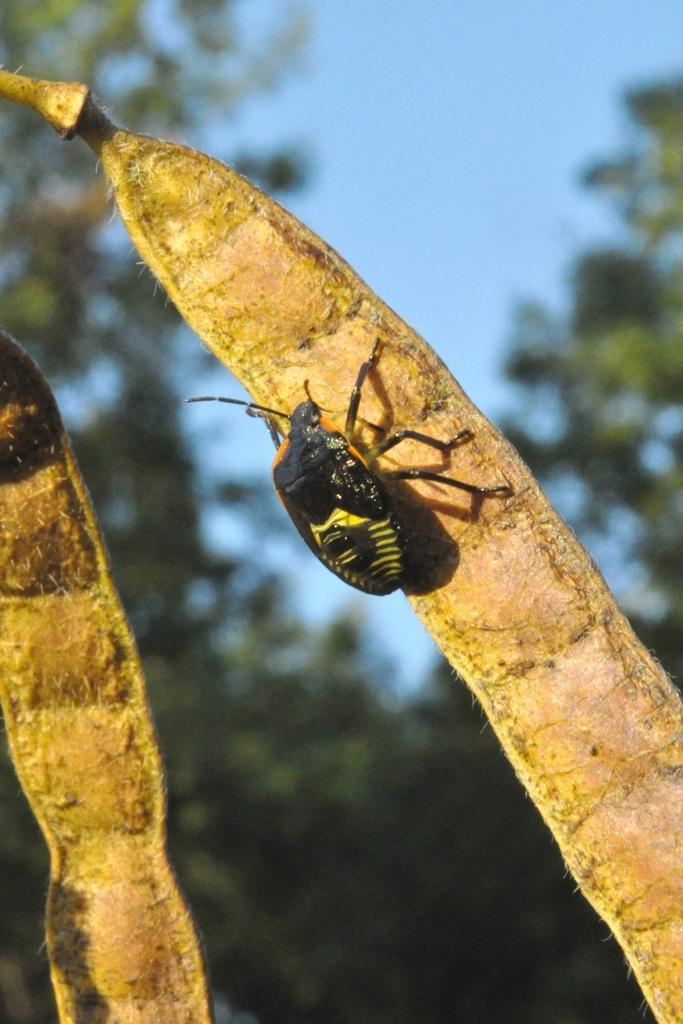stink_bugs: (115, 295, 587, 650)
